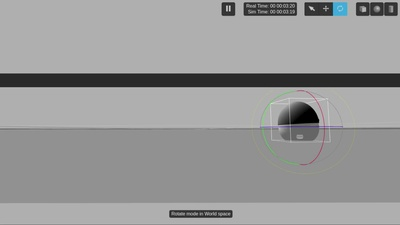mira_robot: (279, 101, 320, 143)
